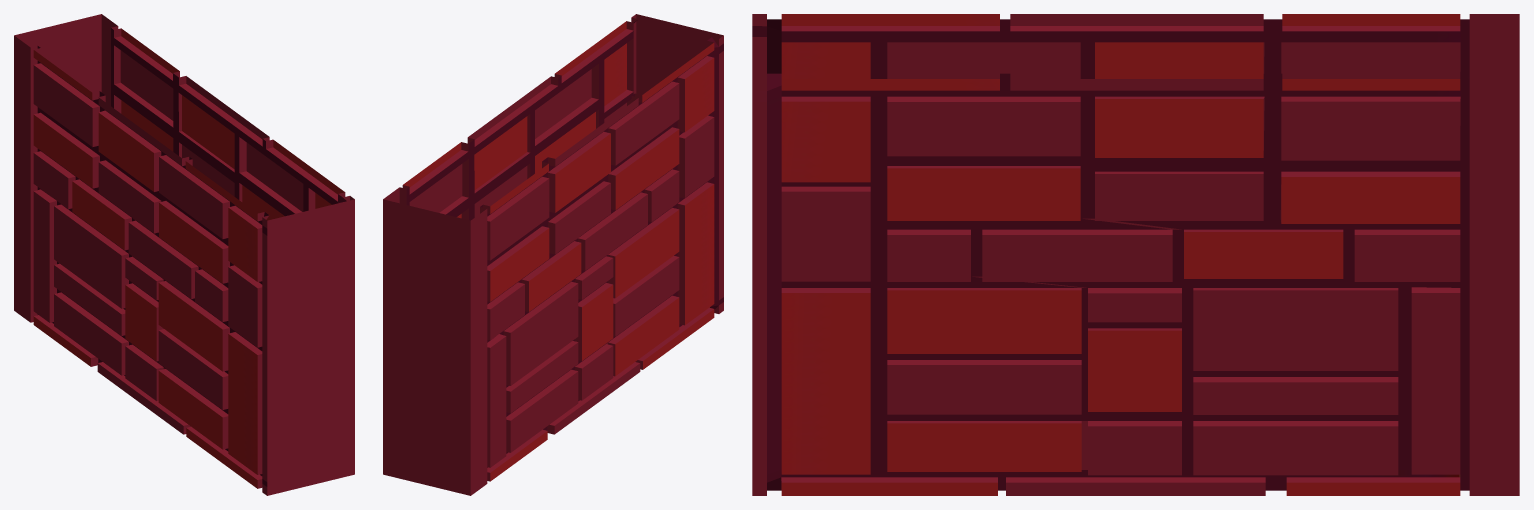
The model's file is LabrinthWallC.fbx.
3 views of the same model, side by side, from view 1: azimuth 30°, elevation 25°; view 2: azimuth 150°, elevation 25°; view 3: azimuth 270°, elevation 25° (orthographic). The views are drawn at different scales.
Visible parts, largest first — view 1: Wall; view 2: Wall; view 3: Wall.
Part boxes in pixels (x1,y1,x2,y2): Wall: [14, 14, 354, 495]; Wall: [383, 14, 723, 495]; Wall: [752, 14, 1519, 495].
Size of the model in its own units: 100 by 300 by 500.
